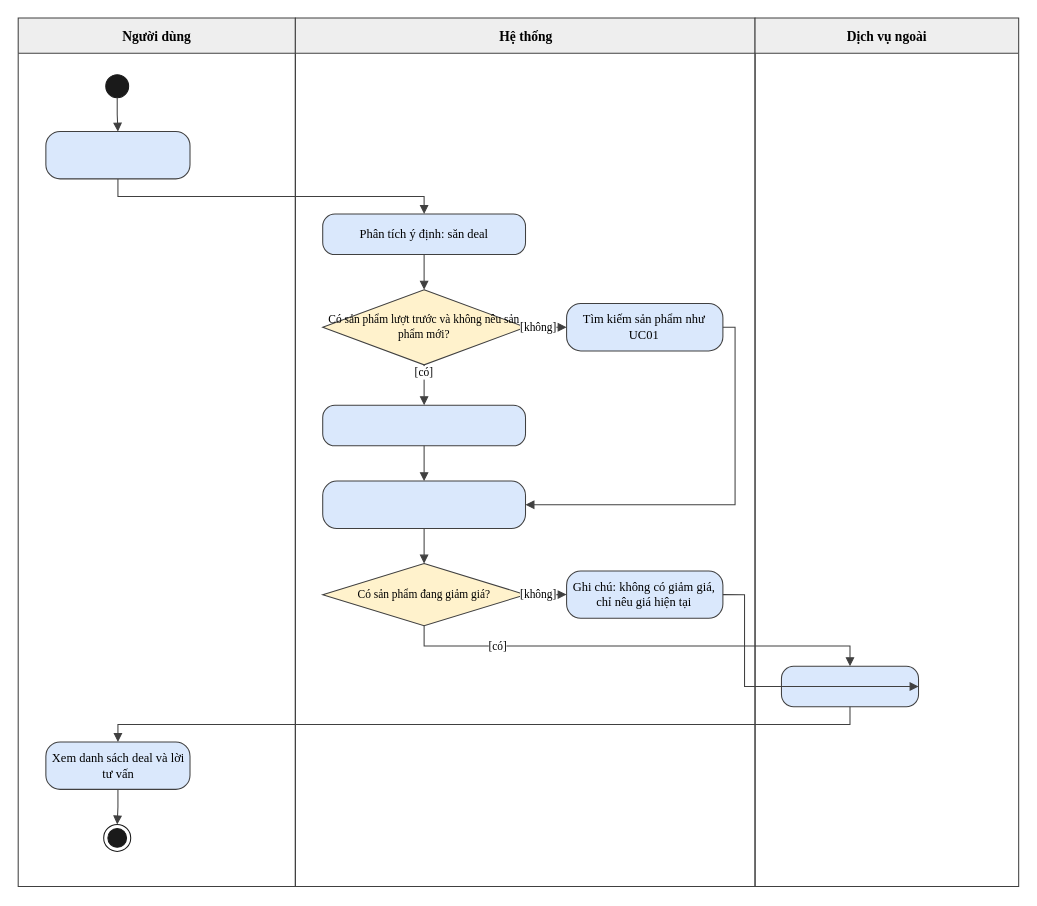
This 1037x906 diagram has some shape labels left out. Each missing label, with the centre of its shape:
Hỏi sản phẩm nào đang giảm sâu nhất: the point at 117,155
LLM viết lời tư vấn: the point at 849,686
Lấy sản phẩm của lượt trước: the point at 424,425
Xếp theo % giảm và mức tiết kiệm thực: the point at 424,504
